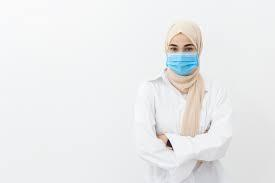Wearing Mask: (154, 15, 212, 87)
